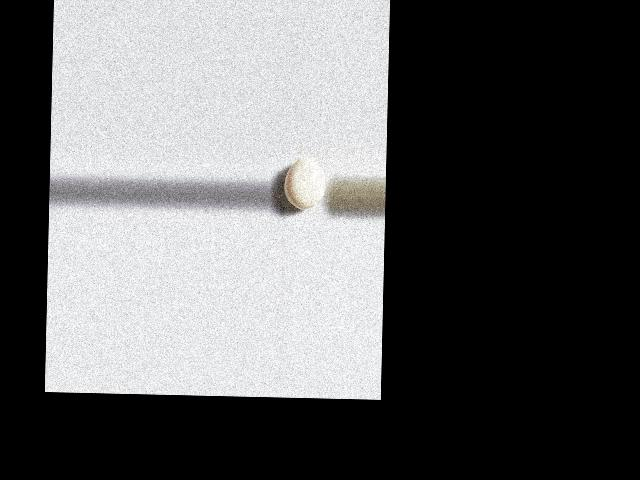egg: (283, 157, 325, 210)
